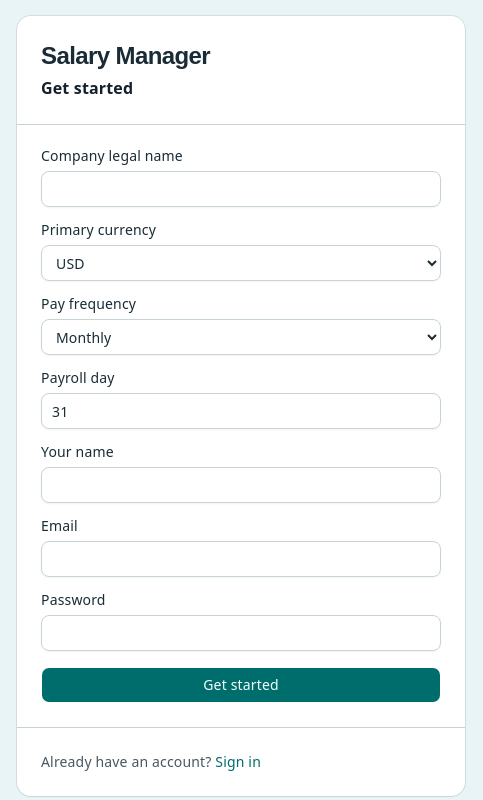
Test case: GetStartedPage › shows a field error when the email is already taken
Type "Acme Corp" into the field labelled "Company legal name" at (241, 189), box [41,171,441,207]
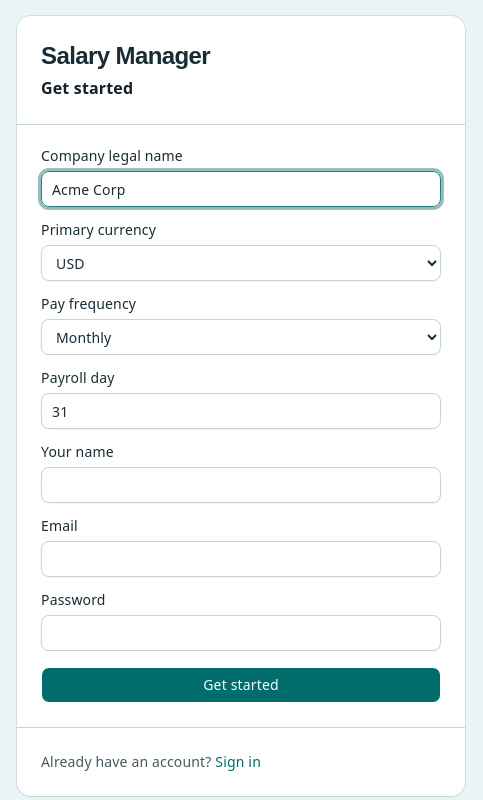
Select "USD" in the dropdown labelled "Primary currency" at (241, 263), box [41,245,441,281]
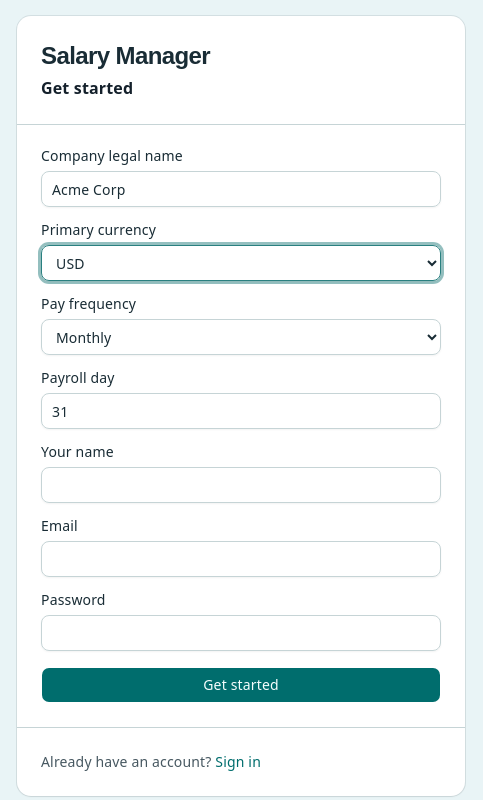
Type "Jane Admin" into the field labelled "Your name" at (241, 485), box [41,467,441,503]
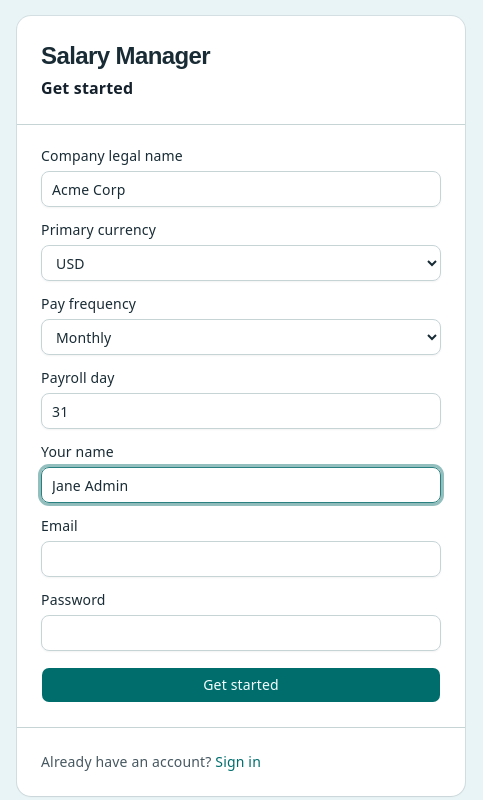
Type "taken@example.com" into the field labelled "Email" at (241, 559), box [41,541,441,577]
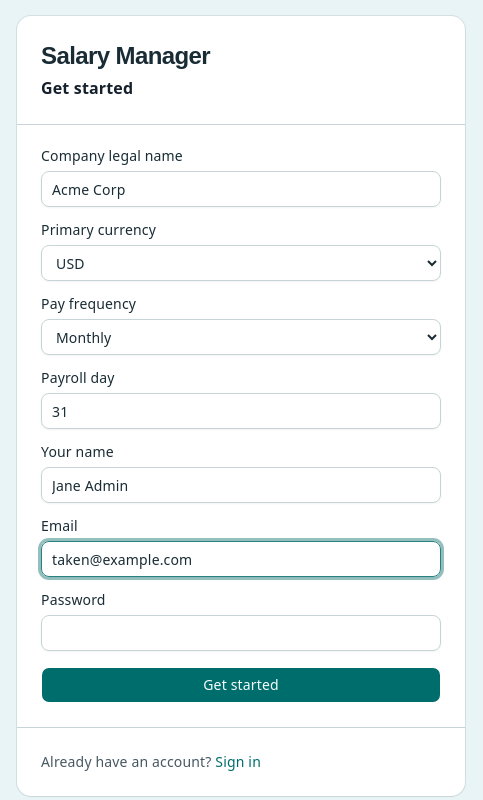
Type "password123" into the password field labelled "Password" at (241, 633), box [41,615,441,651]
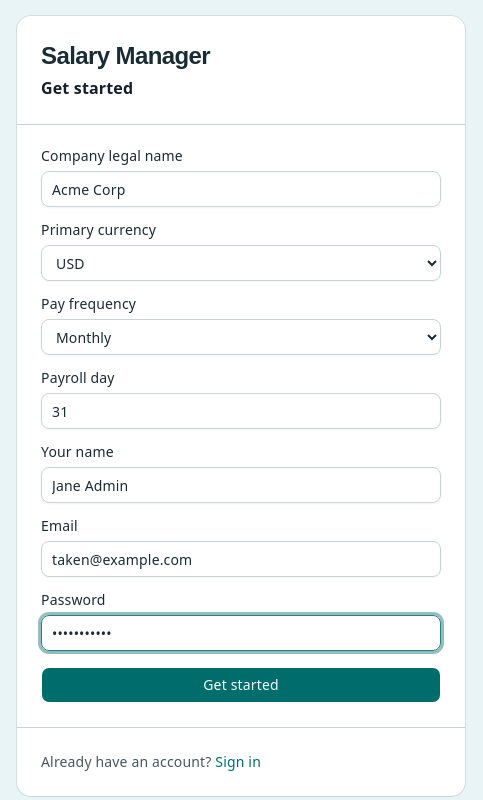
Click the button "Get started" at (241, 685), box [41,667,441,703]
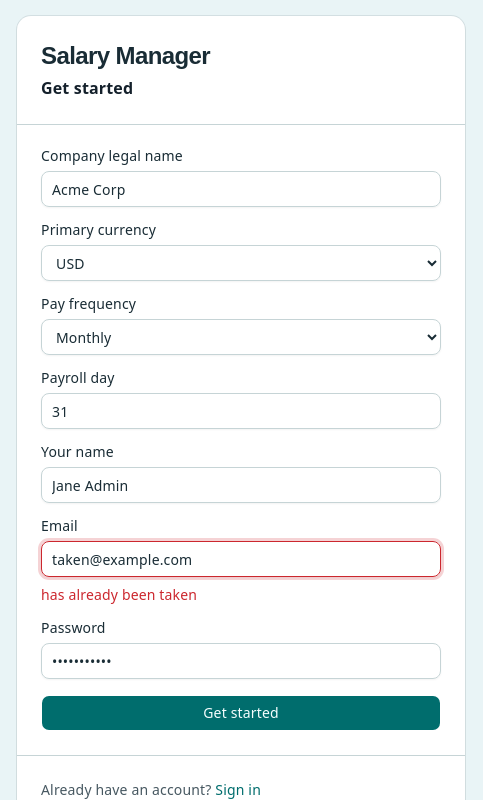
expect the text "has already been taken" is shown: met, box [41,585,197,604]
